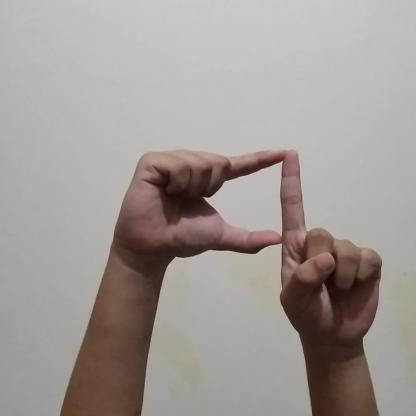D: (98, 129, 386, 366)
